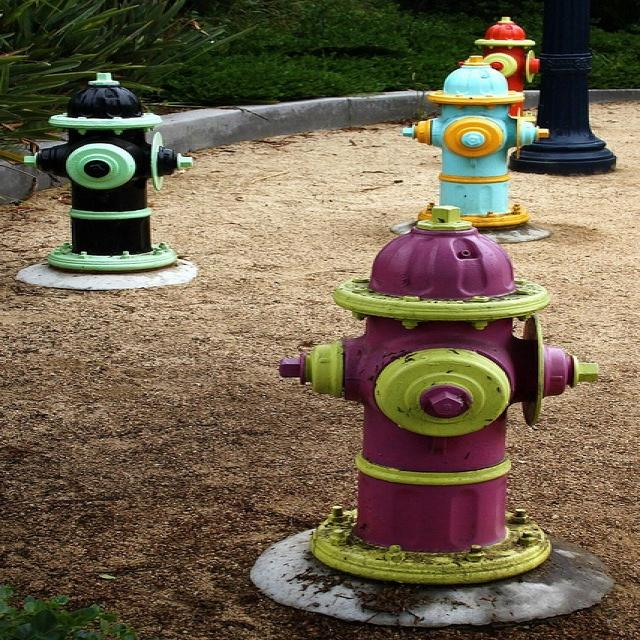fire_hydrant: (276, 210, 596, 582), (21, 68, 199, 268), (394, 50, 550, 242), (505, 0, 622, 173), (472, 16, 538, 121)
